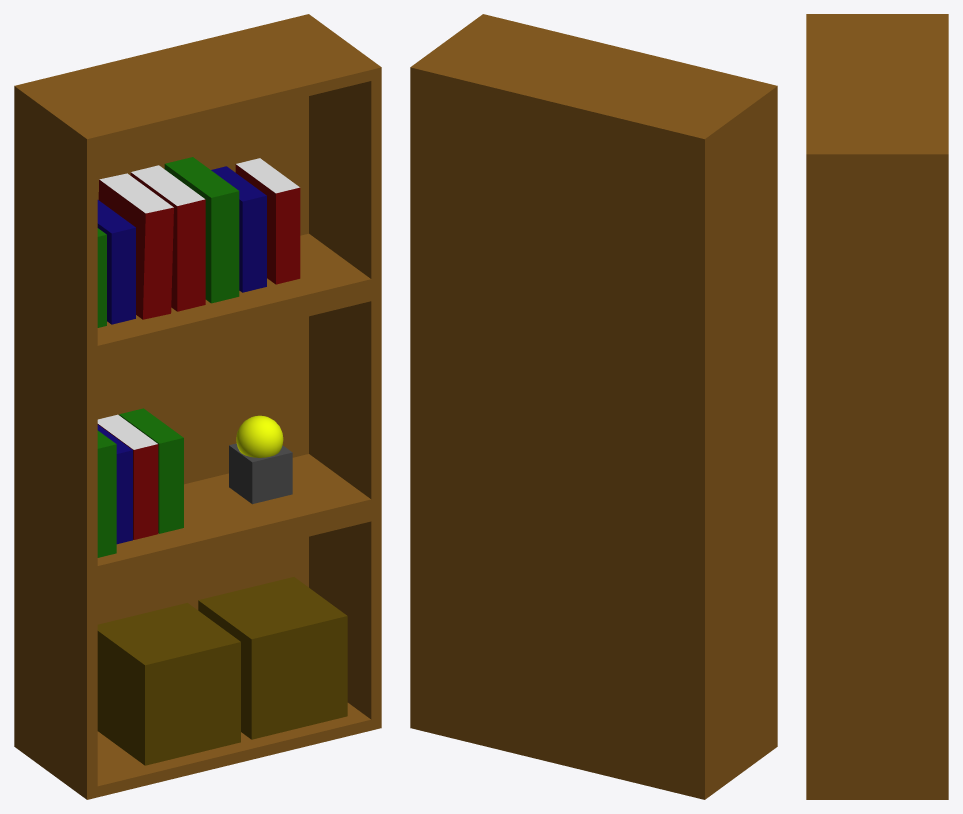
File: salon_libreria.fbx
The picture shows the model from 3 angles, left to right: view 1: azimuth 30°, elevation 25°; view 2: azimuth 150°, elevation 25°; view 3: azimuth 270°, elevation 25°; orthographic projection. The views are drawn at different scales.
Parts seen in each view (by area): view 1: salon_libreria; view 2: salon_libreria; view 3: salon_libreria.
Part boxes in pixels (box(x1,y1,x2,y2)): salon_libreria: box(14, 14, 381, 799); salon_libreria: box(410, 14, 777, 799); salon_libreria: box(806, 14, 948, 799).
Bounding box in the file's own units: 70 × 150 × 30.
